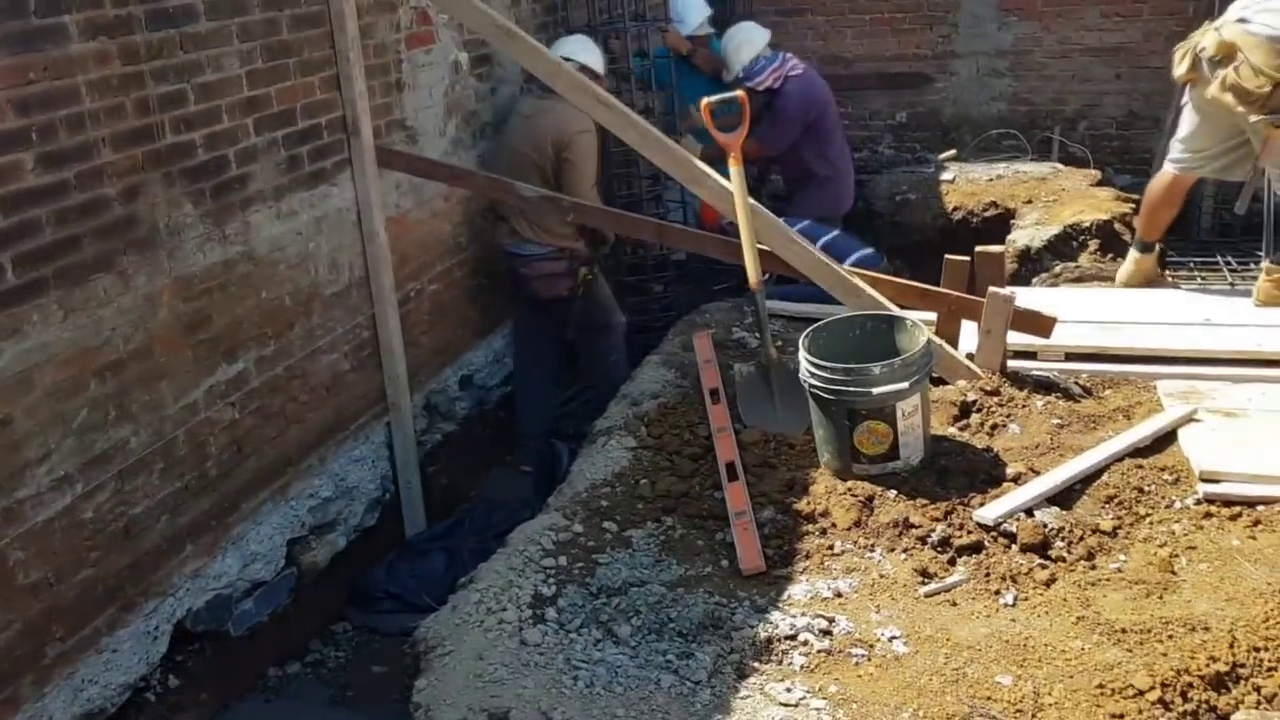helmet: (722, 20, 770, 82), (551, 27, 602, 73), (665, 0, 712, 36)
helmet-on: (531, 28, 607, 102), (722, 17, 786, 86), (663, 1, 718, 55)
person: (476, 18, 636, 481), (1116, 4, 1280, 299), (692, 16, 840, 235), (643, 4, 734, 143)
